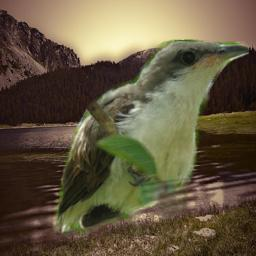Cuckoo: (52, 38, 249, 237)
